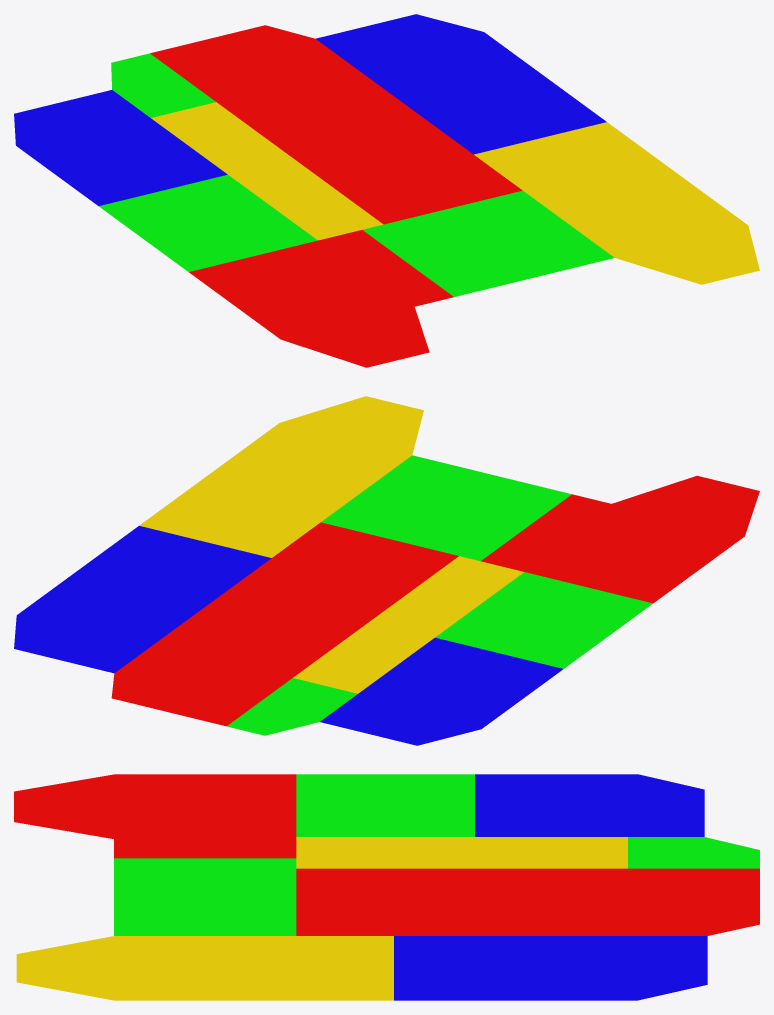
File: FLOOR.FBX
3 views of the same model, one above another, from view 1: azimuth 30°, elevation 25°; view 2: azimuth 150°, elevation 25°; view 3: azimuth 270°, elevation 25° (orthographic).
Visible parts, largest first — view 1: Plane006, Plane004, Plane003, Plane005, Plane002, Plane010, Plane009, Plane007, Plane008; view 2: Plane006, Plane004, Plane003, Plane005, Plane002, Plane010, Plane009, Plane007, Plane008; view 3: Plane006, Plane004, Plane003, Plane005, Plane002, Plane010, Plane009, Plane007, Plane008.
Boxes of the visible parts, bbox=[...] form: Plane006: bbox=[150, 25, 522, 224]; Plane004: bbox=[474, 122, 759, 284]; Plane003: bbox=[189, 230, 453, 367]; Plane005: bbox=[316, 14, 606, 154]; Plane002: bbox=[362, 190, 614, 296]; Plane010: bbox=[14, 90, 227, 206]; Plane009: bbox=[99, 174, 317, 271]; Plane007: bbox=[151, 102, 383, 240]; Plane008: bbox=[111, 53, 215, 117]; Plane006: bbox=[111, 522, 458, 726]; Plane004: bbox=[139, 396, 423, 557]; Plane003: bbox=[481, 475, 759, 603]; Plane005: bbox=[14, 526, 271, 673]; Plane002: bbox=[321, 455, 571, 561]; Plane010: bbox=[320, 637, 563, 745]; Plane009: bbox=[435, 572, 652, 668]; Plane007: bbox=[293, 556, 523, 693]; Plane008: bbox=[227, 678, 357, 735]; Plane006: bbox=[296, 868, 759, 935]; Plane004: bbox=[16, 936, 393, 1000]; Plane003: bbox=[14, 774, 296, 858]; Plane005: bbox=[394, 936, 707, 1000]; Plane002: bbox=[114, 858, 296, 935]; Plane010: bbox=[475, 774, 704, 836]; Plane009: bbox=[296, 774, 474, 836]; Plane007: bbox=[296, 837, 627, 868]; Plane008: bbox=[628, 837, 759, 868].
Size of the model in its own units: 548 by 3.49e-14 by 764.
